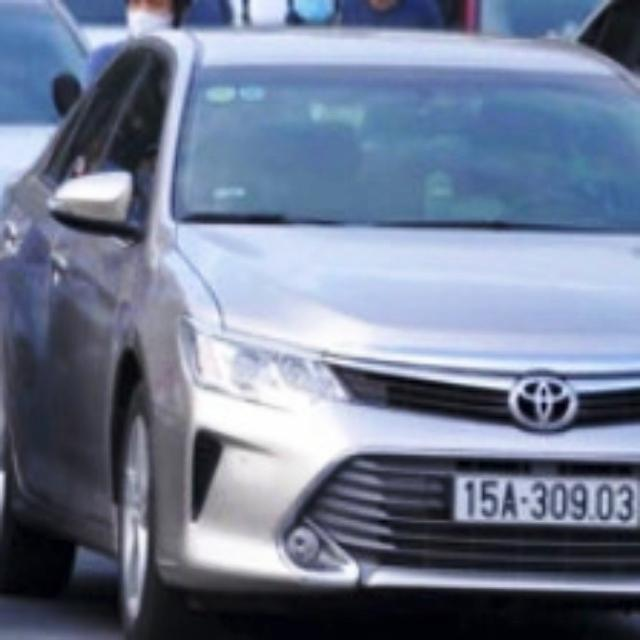Car: (0, 24, 639, 639), (0, 0, 99, 280)
